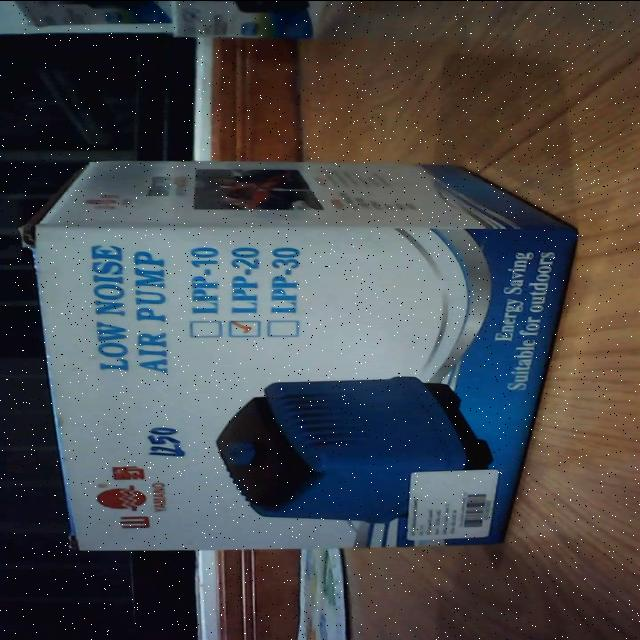YAMANO_LPP_20: (8, 151, 598, 557)
